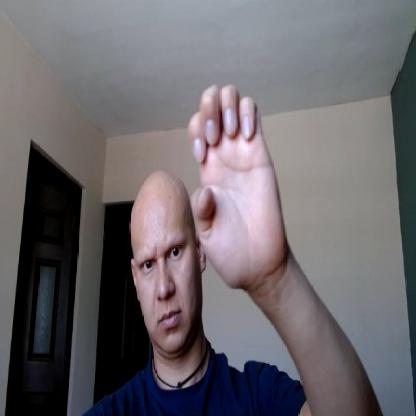E: (189, 85, 285, 285)
